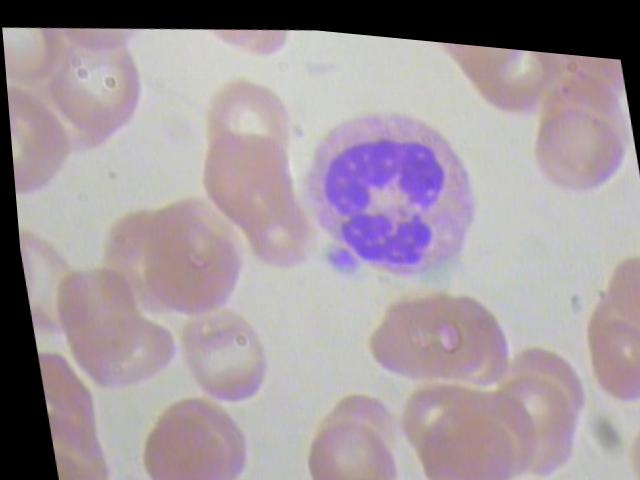Red Blood Cells: (125, 176, 265, 324), (347, 268, 487, 386), (515, 84, 635, 197), (186, 120, 306, 233), (38, 30, 157, 143), (163, 295, 274, 415), (187, 63, 300, 166), (407, 391, 517, 479), (121, 397, 234, 479), (288, 404, 398, 479), (570, 299, 639, 399)
White Blood Cells: (274, 80, 491, 294)
